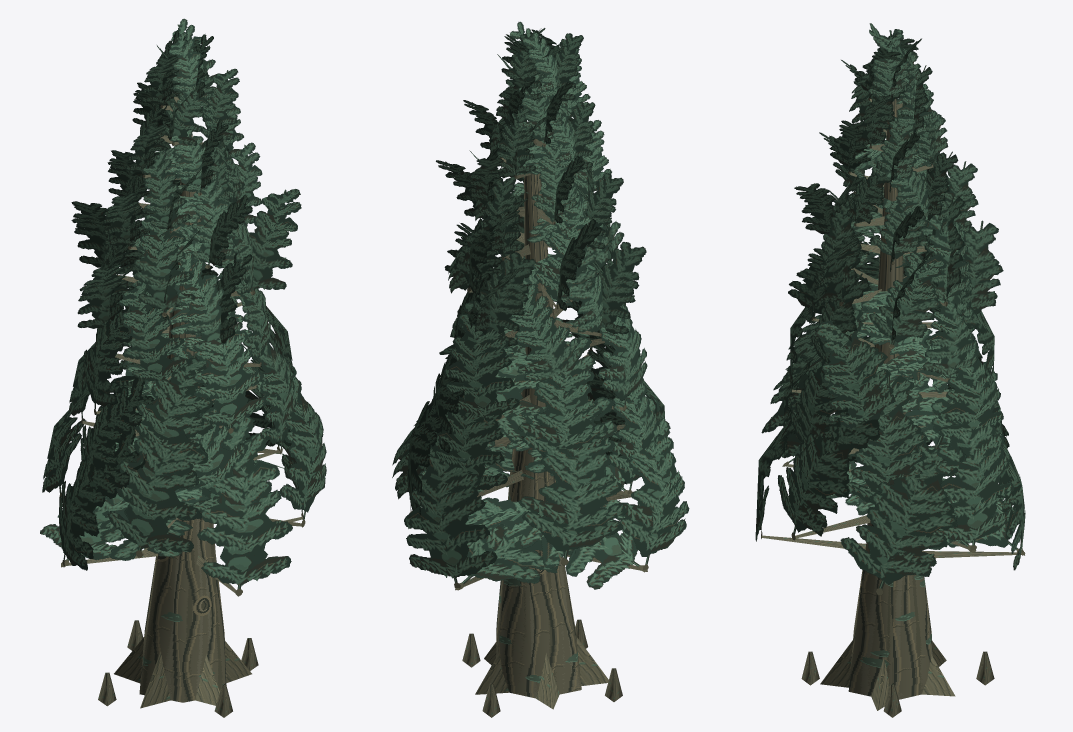
Rendered from delta-cypress-near.glb.
The picture shows the model from 3 angles, left to right: view 1: azimuth 30°, elevation 25°; view 2: azimuth 150°, elevation 25°; view 3: azimuth 270°, elevation 25°; orthographic projection.
Parts seen in each view (by area): view 1: Delta cypress near v3 runtime; view 2: Delta cypress near v3 runtime; view 3: Delta cypress near v3 runtime.
Boxes of the visible parts, bbox=[...] form: Delta cypress near v3 runtime: bbox=[40, 18, 326, 717]; Delta cypress near v3 runtime: bbox=[392, 21, 689, 717]; Delta cypress near v3 runtime: bbox=[755, 23, 1025, 717].
Size of the model in its own units: 4.99 by 10.8 by 4.85.
Materials: 1 (1 with a texture image).
